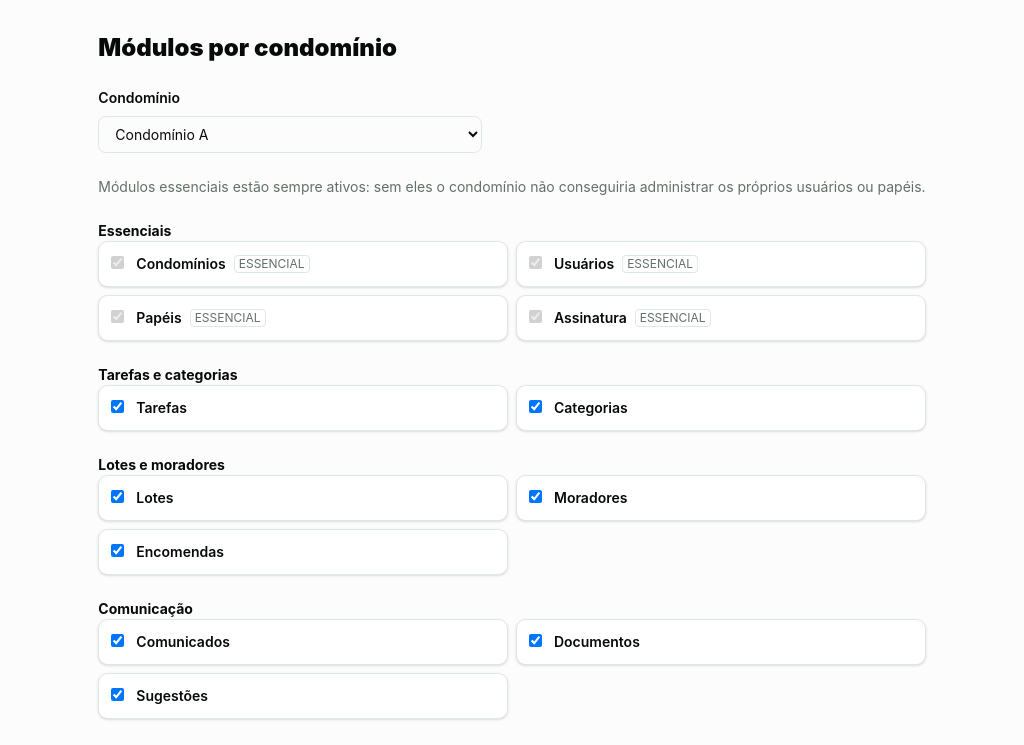
TenantModulesPage › refetches when the condominium select changes
Select "Condomínio B" in the dropdown labelled "Condomínio" at (290, 134), box x1=98 y1=116 x2=482 y2=153
(page scrolled)
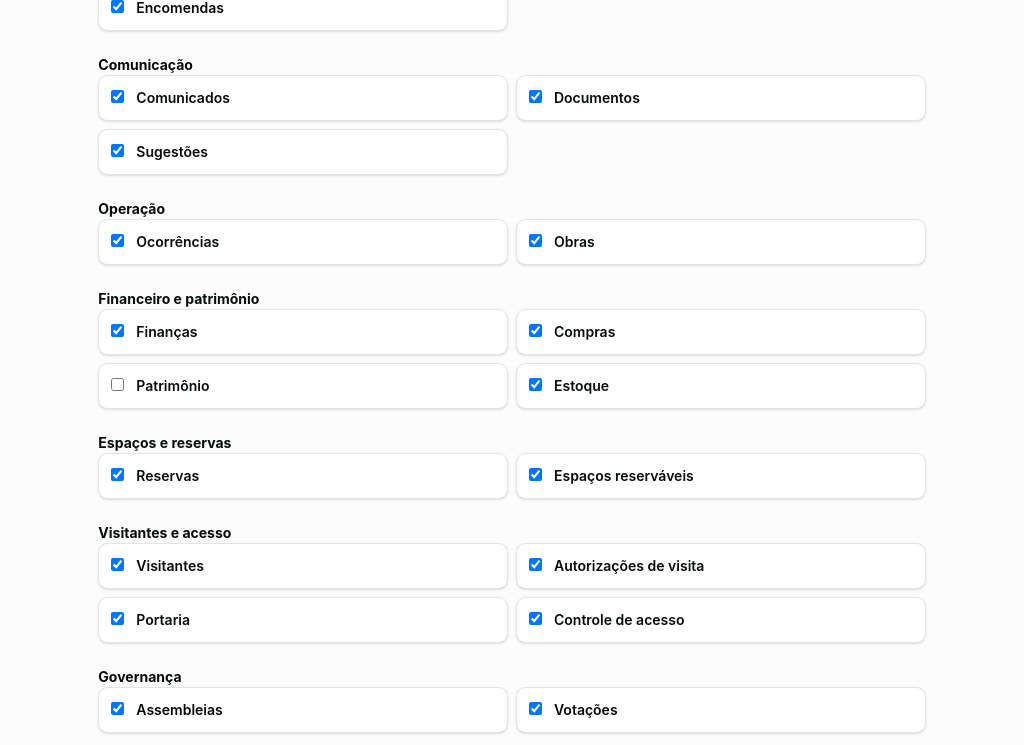
Now the checkbox labelled "Patrimônio" is not checked, box x1=111 y1=378 x2=124 y2=391
